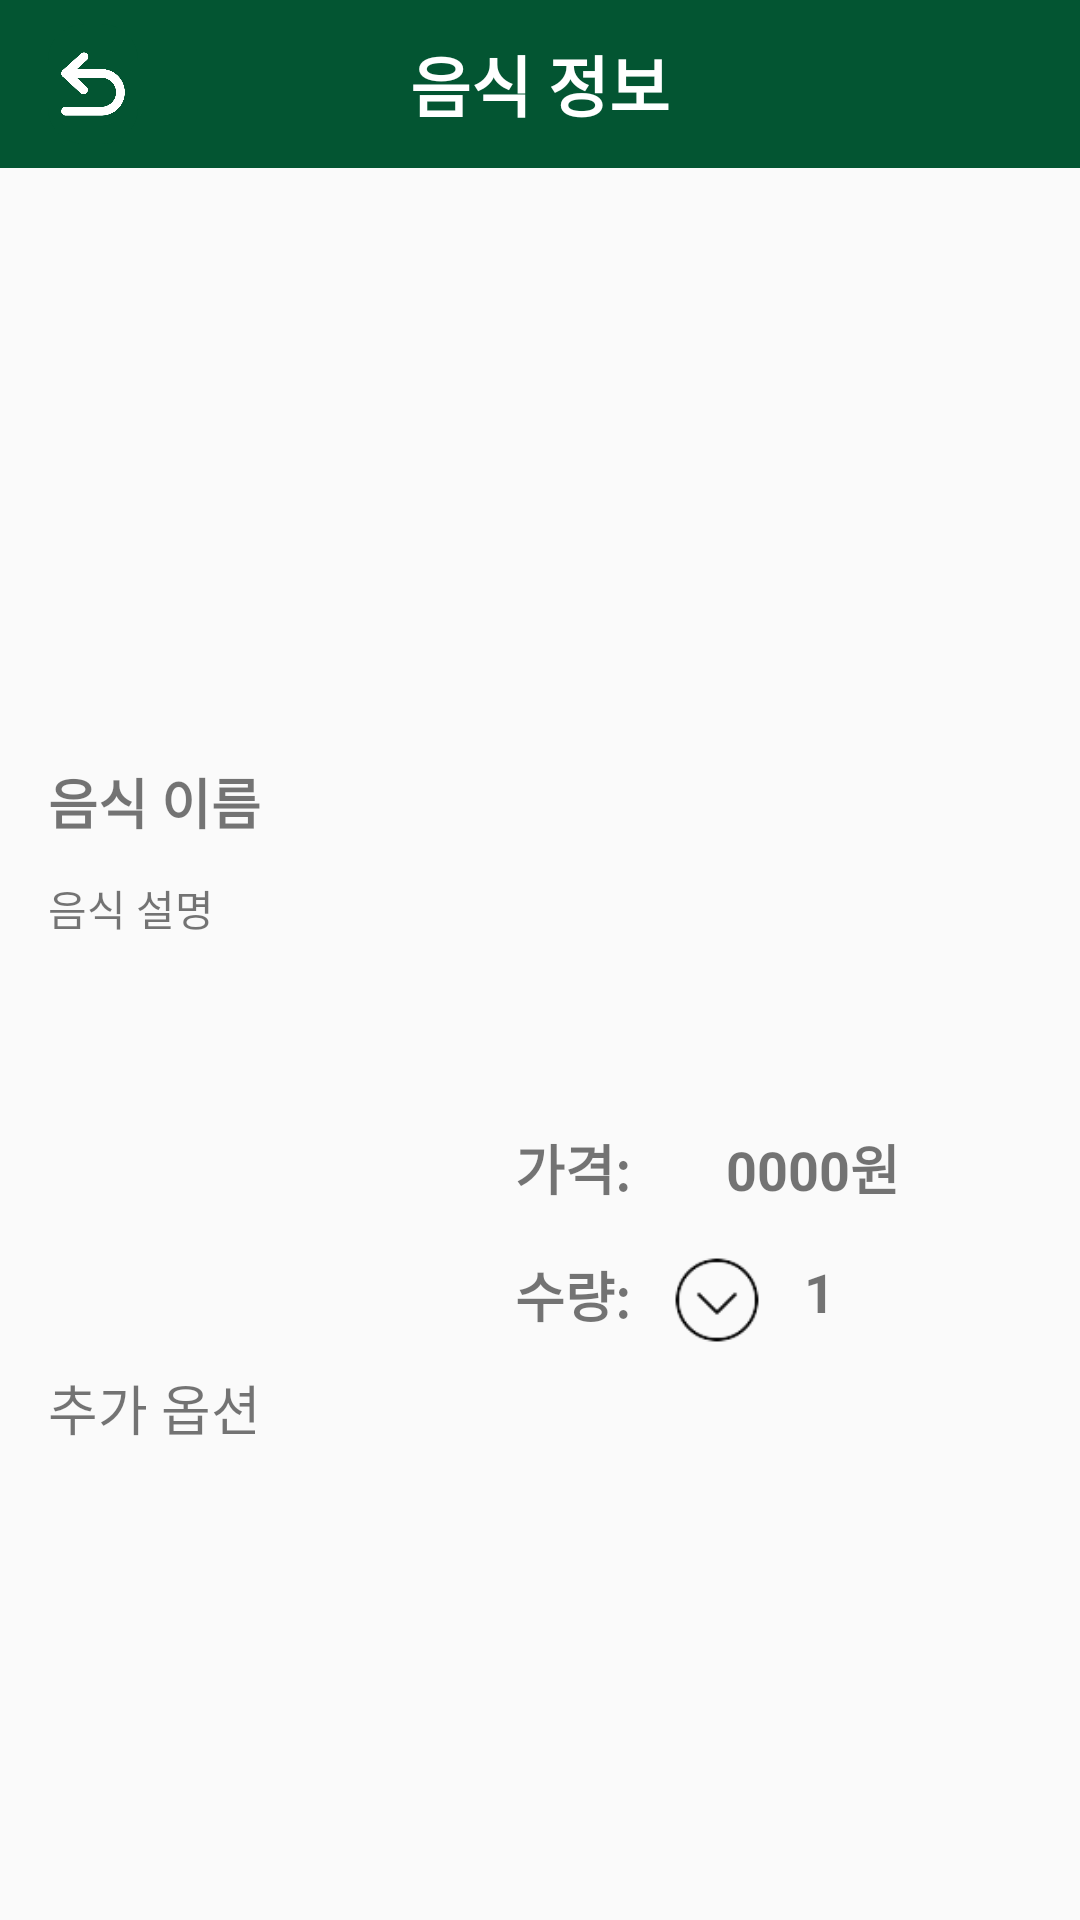

Icons on this 1080×1920 Android screen, each with the point to tap as [x,y]:
down: [717,1300]
exit: [93,84]
